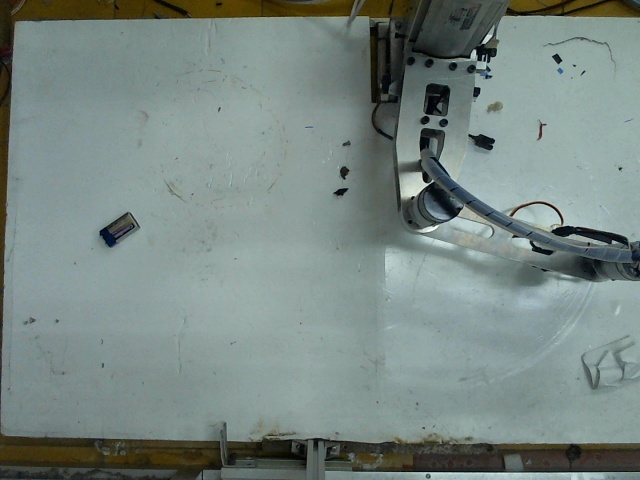battery: (97, 209, 138, 242)
